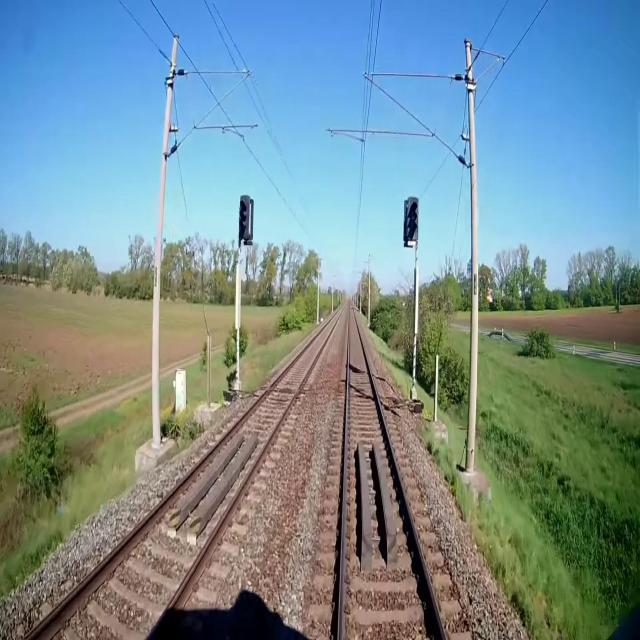rail-track: (30, 311, 340, 639), (344, 306, 441, 639)
